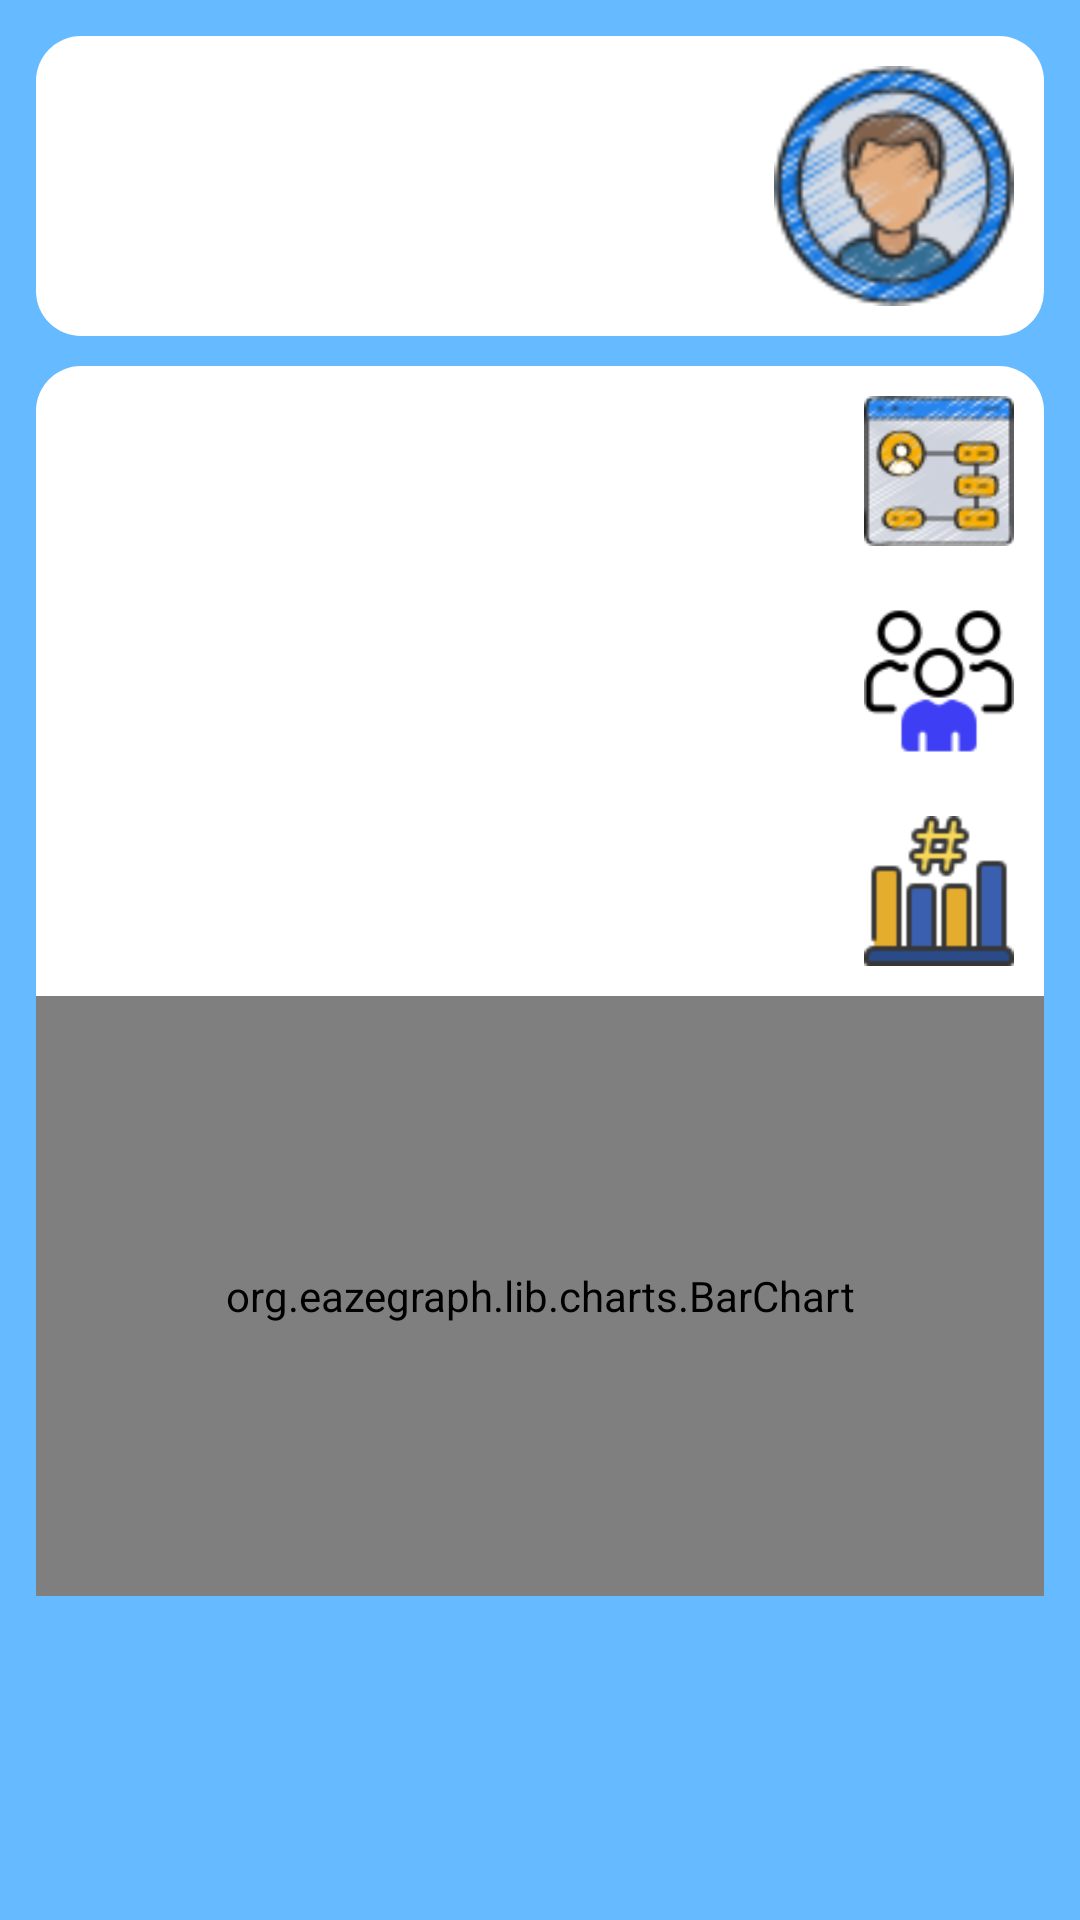

Screen size 1080*1920. Icon name, then its box in pixels as bbox(x1, y1, x2, y2):
under management: bbox(864, 396, 1014, 546)
user man: bbox(774, 66, 1014, 306)
